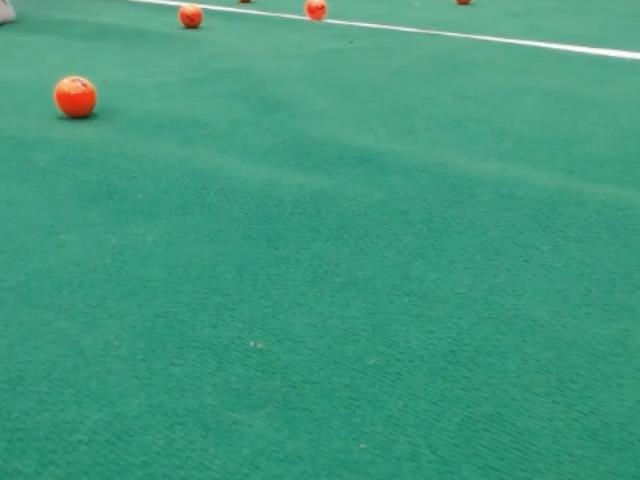Ball: (53, 76, 96, 118), (178, 4, 202, 28), (304, 0, 326, 22)
